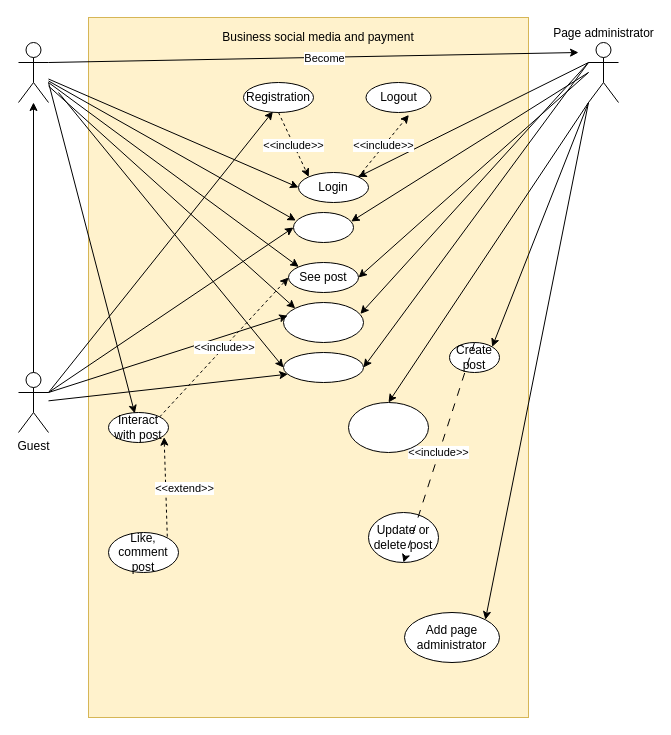
Image size: 671x735. Some labels were removed from this diagram. The centre of each missing label's shape, as x and y in pixels:
"Edit business page details" belongs at (388,427).
"Search" belongs at (323,227).
"See all businesses" belongs at (323,322).
"See business page" belongs at (323,367).
"User" belongs at (33,72).
